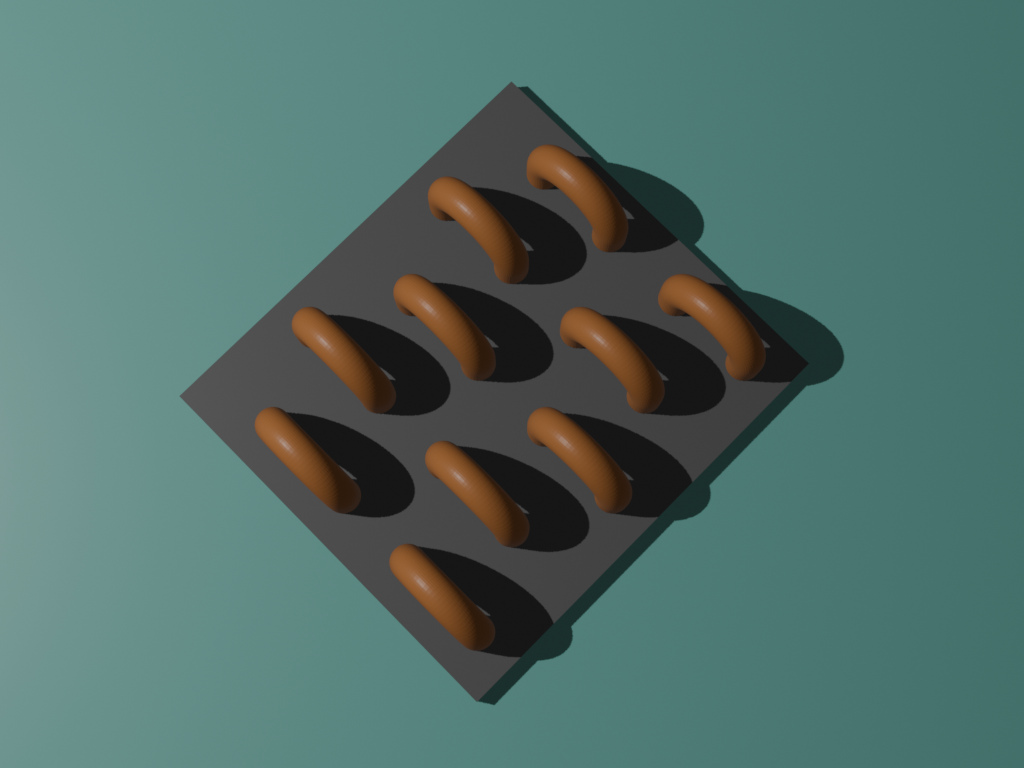return-bend: (637, 244, 794, 400), (403, 153, 560, 309), (498, 114, 654, 270), (368, 520, 517, 676), (506, 382, 655, 538), (372, 242, 521, 398), (233, 380, 381, 536), (403, 412, 551, 568), (271, 282, 419, 438), (538, 275, 686, 431)
